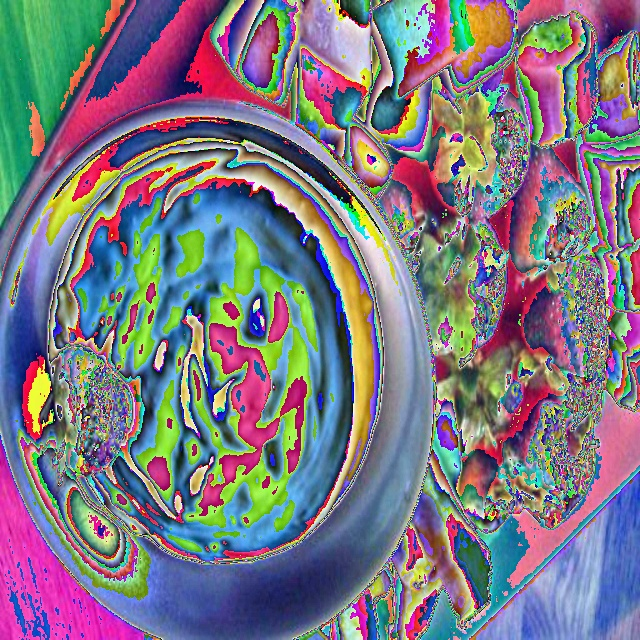background: (209, 0, 639, 640), (40, 141, 386, 567)
